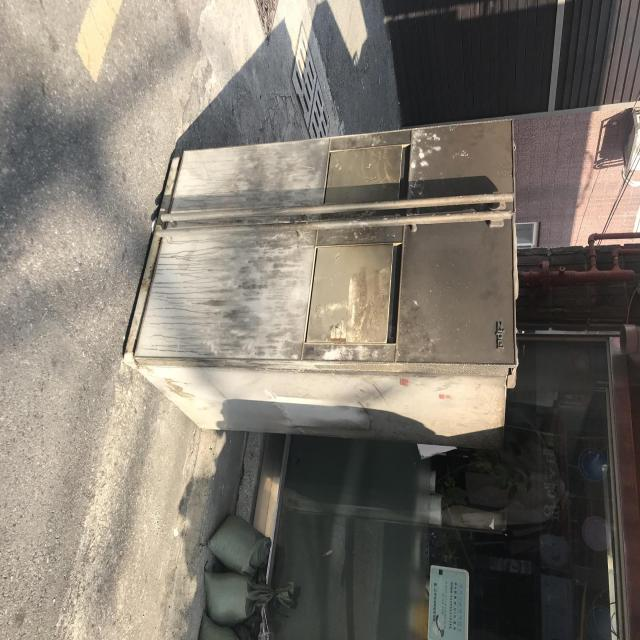refrigerator: (119, 113, 525, 458)
